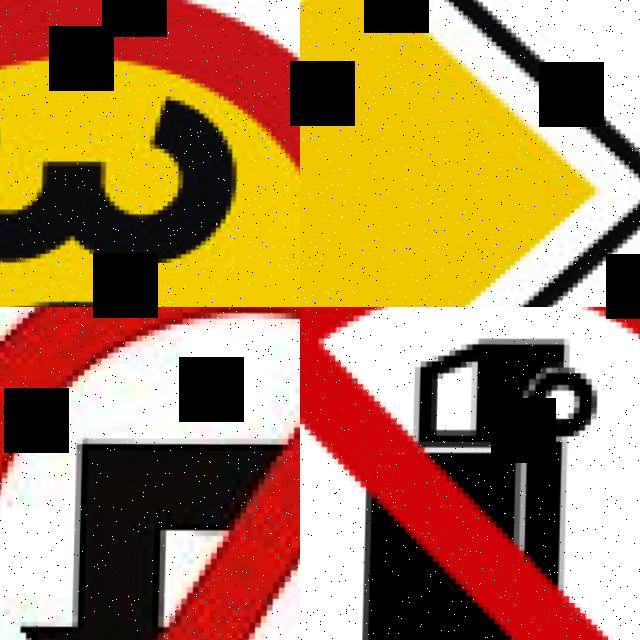57: (300, 0, 640, 307)
No Right turn: (0, 307, 300, 640)
No entry for Trucks: (300, 307, 640, 640)
speed limit-30: (0, 0, 300, 307)
